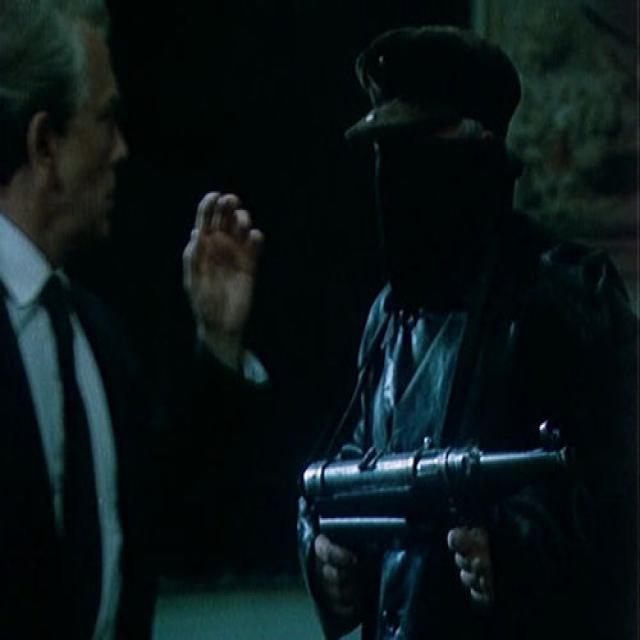rifle: (288, 413, 581, 559)
